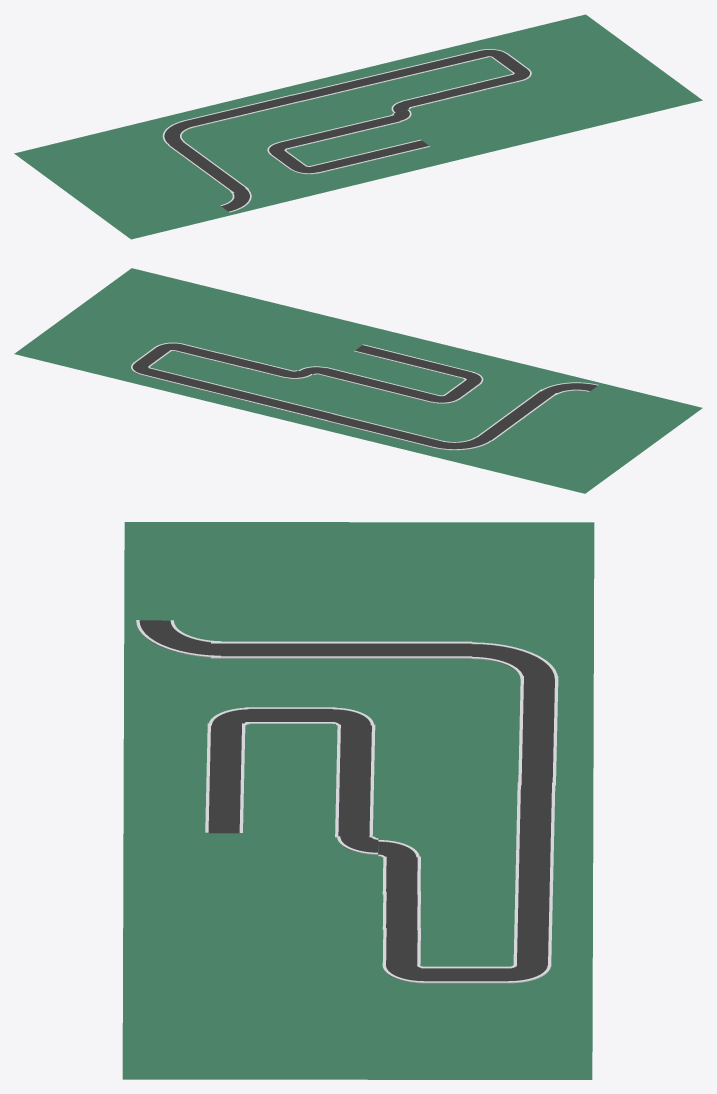
The model's file is road9new.obj.
3 renders of one model, top to bottom at view 1: azimuth 30°, elevation 25°; view 2: azimuth 150°, elevation 25°; view 3: azimuth 270°, elevation 25°, orthographic. The views are drawn at different scales.
Visible parts, largest first — view 1: grass.003, roadStraightLong.110, roadStraightLong.105, roadStraightLong.111, roadStraightLong.118, roadStraightLong.115, roadStraightLong.109, roadStraightLong.114, roadStraightLong.119, roadStraightLong.117, roadStraightLong.112, roadCornerLarge.029_roadCornerLarge.031 (+12 smaller); view 2: grass.003, roadCornerLarge.030_roadCornerLarge.032, roadStraightLong.110, roadStraightLong.111, roadStraightLong.119, roadStraightLong.104, roadCornerLarge.029_roadCornerLarge.031, roadStraightLong.109, roadStraightLong.115, roadStraightLong.105, roadStraightLong.118, roadStraightLong.114 (+13 smaller); view 3: grass.003, roadStraightLong.111, roadStraightLong.117, roadStraightLong.110, roadStraightLong.105, roadStraightLong.113, roadStraightLong.118, roadStraightLong.119, roadCornerLarge.029_roadCornerLarge.031, roadStraightLong.114, roadCornerLarge.030_roadCornerLarge.032, roadStraightLong.112 (+13 smaller).
Part boxes in pixels (left/top/right/bottom): grass.003: left=14, top=14, right=702, bottom=239; roadStraightLong.110: left=353, top=114, right=402, bottom=131; roadStraightLong.105: left=381, top=139, right=430, bottom=156; roadStraightLong.111: left=473, top=74, right=522, bottom=90; roadStraightLong.118: left=403, top=58, right=452, bottom=75; roadStraightLong.115: left=291, top=85, right=339, bottom=102; roadStraightLong.109: left=315, top=124, right=363, bottom=141; roadStraightLong.114: left=489, top=53, right=530, bottom=73; roadStraightLong.119: left=442, top=49, right=489, bottom=66; roadStraightLong.117: left=365, top=68, right=413, bottom=84; roadStraightLong.112: left=436, top=83, right=485, bottom=99; roadCornerLarge.029_roadCornerLarge.031: left=162, top=120, right=193, bottom=144; grass.003: left=14, top=268, right=702, bottom=493; roadCornerLarge.030_roadCornerLarge.032: left=541, top=382, right=598, bottom=395; roadStraightLong.110: left=316, top=367, right=365, bottom=384; roadStraightLong.111: left=172, top=343, right=221, bottom=360; roadStraightLong.119: left=139, top=367, right=188, bottom=384; roadStraightLong.104: left=391, top=353, right=439, bottom=370; roadCornerLarge.029_roadCornerLarge.031: left=433, top=437, right=491, bottom=450; roadStraightLong.109: left=355, top=376, right=402, bottom=393; roadStraightLong.115: left=288, top=404, right=336, bottom=421; roadStraightLong.105: left=353, top=344, right=401, bottom=361; roadStraightLong.118: left=176, top=377, right=225, bottom=394; roadStraightLong.114: left=132, top=346, right=172, bottom=367; grass.003: left=122, top=522, right=594, bottom=1079; roadStraightLong.111: left=379, top=928, right=424, bottom=966; roadStraightLong.117: left=511, top=853, right=557, bottom=892; roadStraightLong.110: left=331, top=799, right=377, bottom=837; roadStraightLong.105: left=201, top=794, right=247, bottom=833; roadStraightLong.113: left=379, top=856, right=424, bottom=895; roadStraightLong.118: left=510, top=891, right=556, bottom=930; roadStraightLong.119: left=510, top=928, right=555, bottom=967; roadCornerLarge.029_roadCornerLarge.031: left=471, top=642, right=557, bottom=678; roadStraightLong.114: left=421, top=966, right=511, bottom=984; roadCornerLarge.030_roadCornerLarge.032: left=136, top=620, right=221, bottom=657; roadStraightLong.112: left=379, top=891, right=424, bottom=930.
Size of the model in its own units: 29.32 by 0.02 by 10.48.
